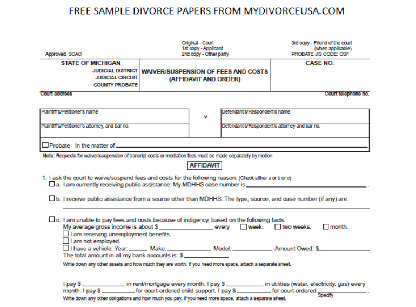checkbox: (240, 223, 247, 230), (274, 223, 281, 230), (49, 180, 55, 188), (49, 194, 55, 202), (49, 215, 55, 223), (63, 243, 69, 251), (63, 230, 69, 237), (63, 237, 69, 244), (322, 223, 328, 230)
textbox: (268, 57, 371, 92), (38, 106, 191, 124), (38, 121, 191, 139), (219, 107, 372, 125), (219, 121, 371, 139)
textline: (62, 203, 371, 210), (115, 142, 368, 148), (245, 182, 367, 188), (317, 286, 367, 294), (159, 223, 214, 230), (317, 244, 370, 251), (183, 252, 231, 259), (231, 245, 273, 252), (100, 286, 136, 294), (165, 245, 212, 251), (80, 281, 127, 287), (224, 281, 264, 287), (236, 288, 272, 294), (128, 244, 149, 251)
